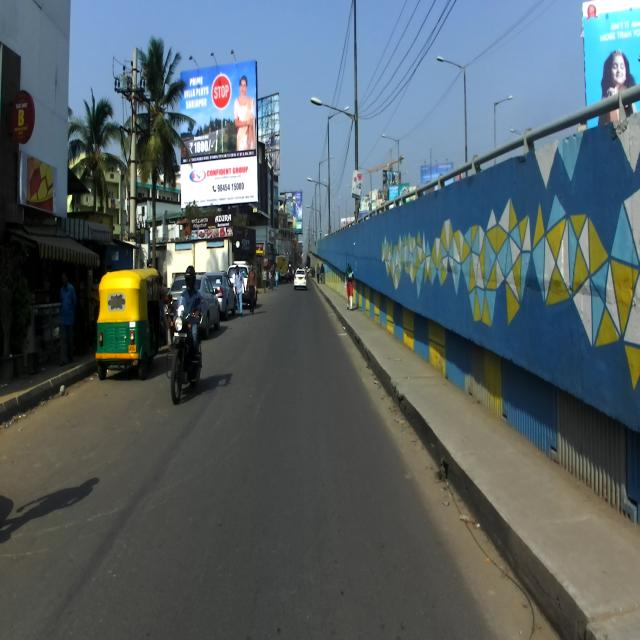auto ahead at: (95, 267, 165, 378)
motorcycle ahead at: (167, 309, 203, 402)
